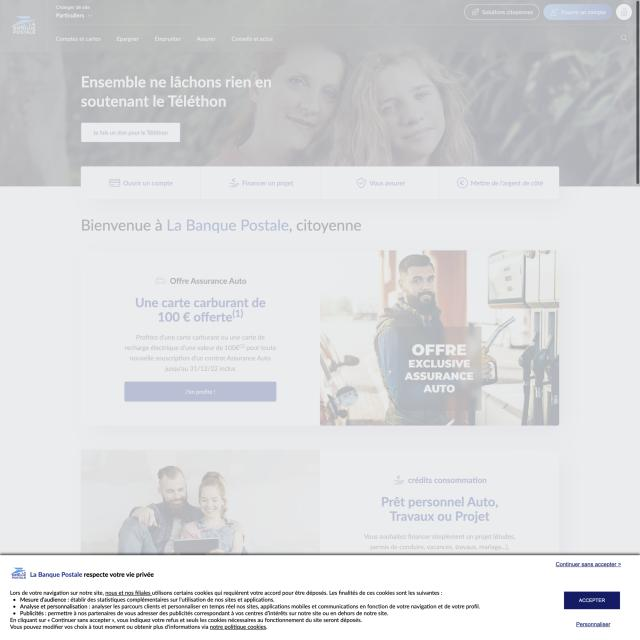logo: (8, 565, 27, 581)
